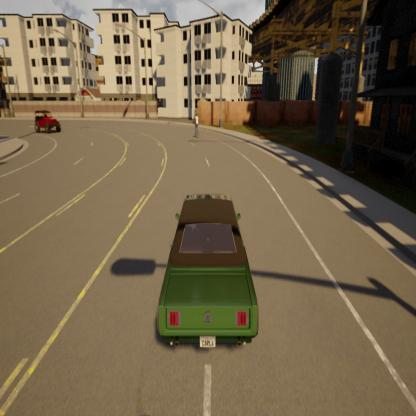Cars: (150, 181, 269, 376), (31, 107, 63, 136)
